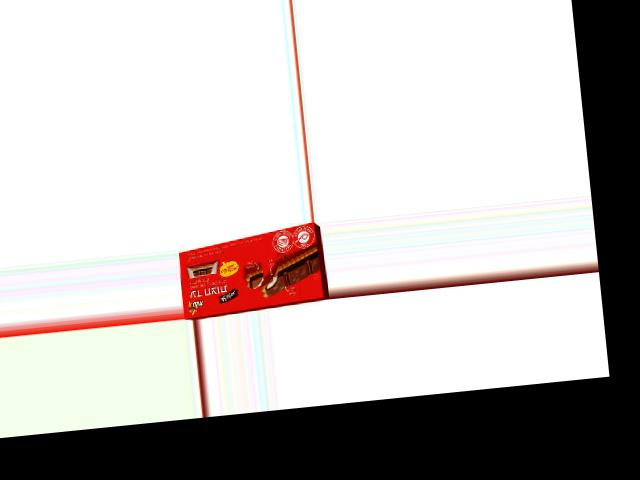chocolate: (175, 230, 327, 314)
